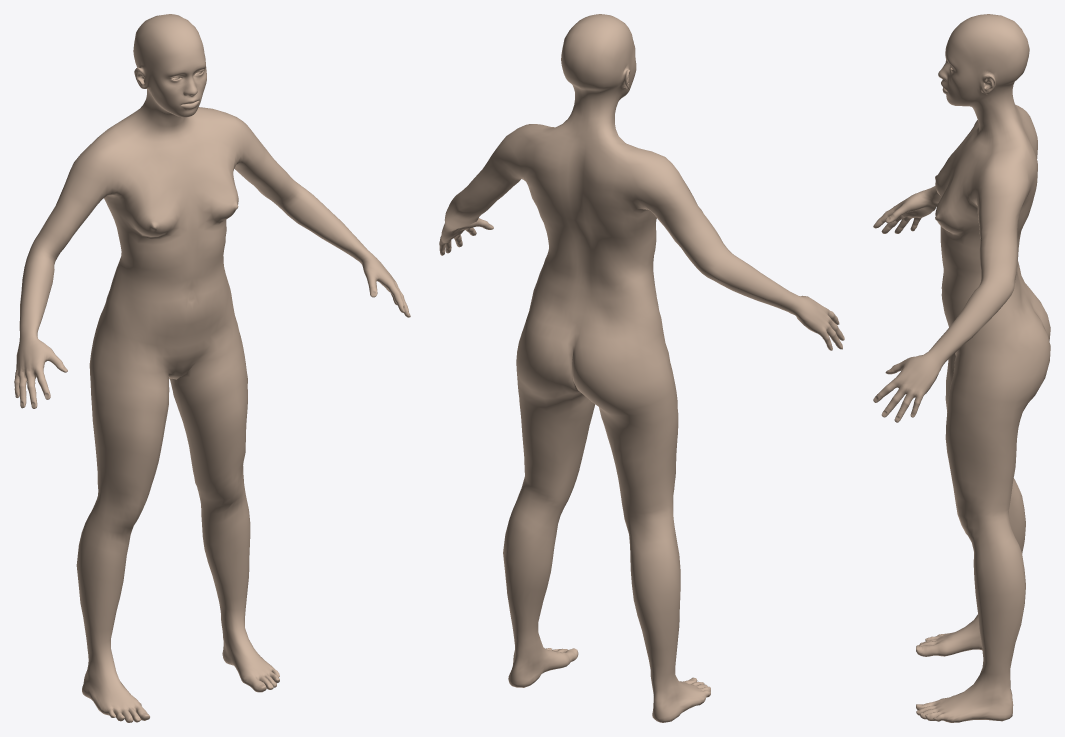
File: alby5.0.fbx
3 views of the same model, side by side, from view 1: azimuth 30°, elevation 25°; view 2: azimuth 150°, elevation 25°; view 3: azimuth 270°, elevation 25° (orthographic). The views are drawn at different scales.
Visible parts, largest first — view 1: human.Body.001; view 2: human.Body.001; view 3: human.Body.001.
Boxes of the visible parts, x1=… form: human.Body.001: x1=14, y1=14, x2=410, y2=722; human.Body.001: x1=439, y1=14, x2=844, y2=722; human.Body.001: x1=873, y1=14, x2=1050, y2=722.
Size of the model in its own units: 97.07 by 159 by 38.34.
